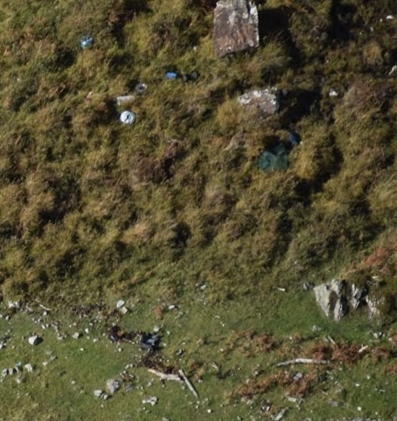scattered_barrel: (105, 60, 211, 133)
white_in_green: (231, 118, 327, 195), (64, 18, 110, 62)
